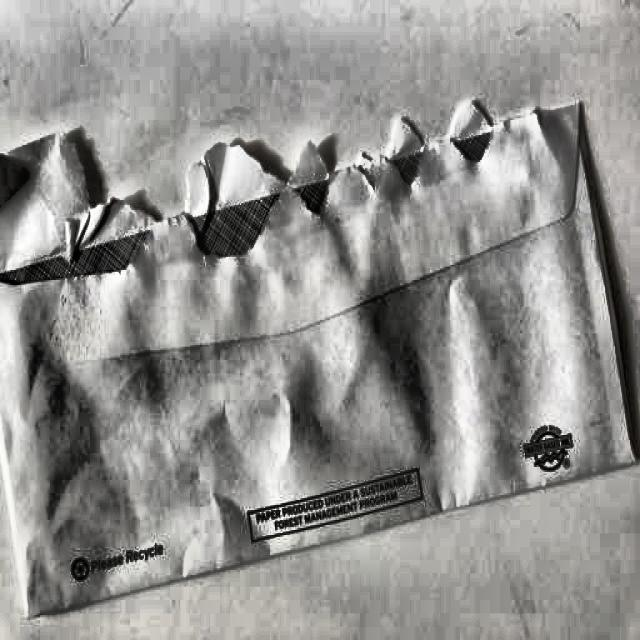paper: (0, 126, 640, 536)
